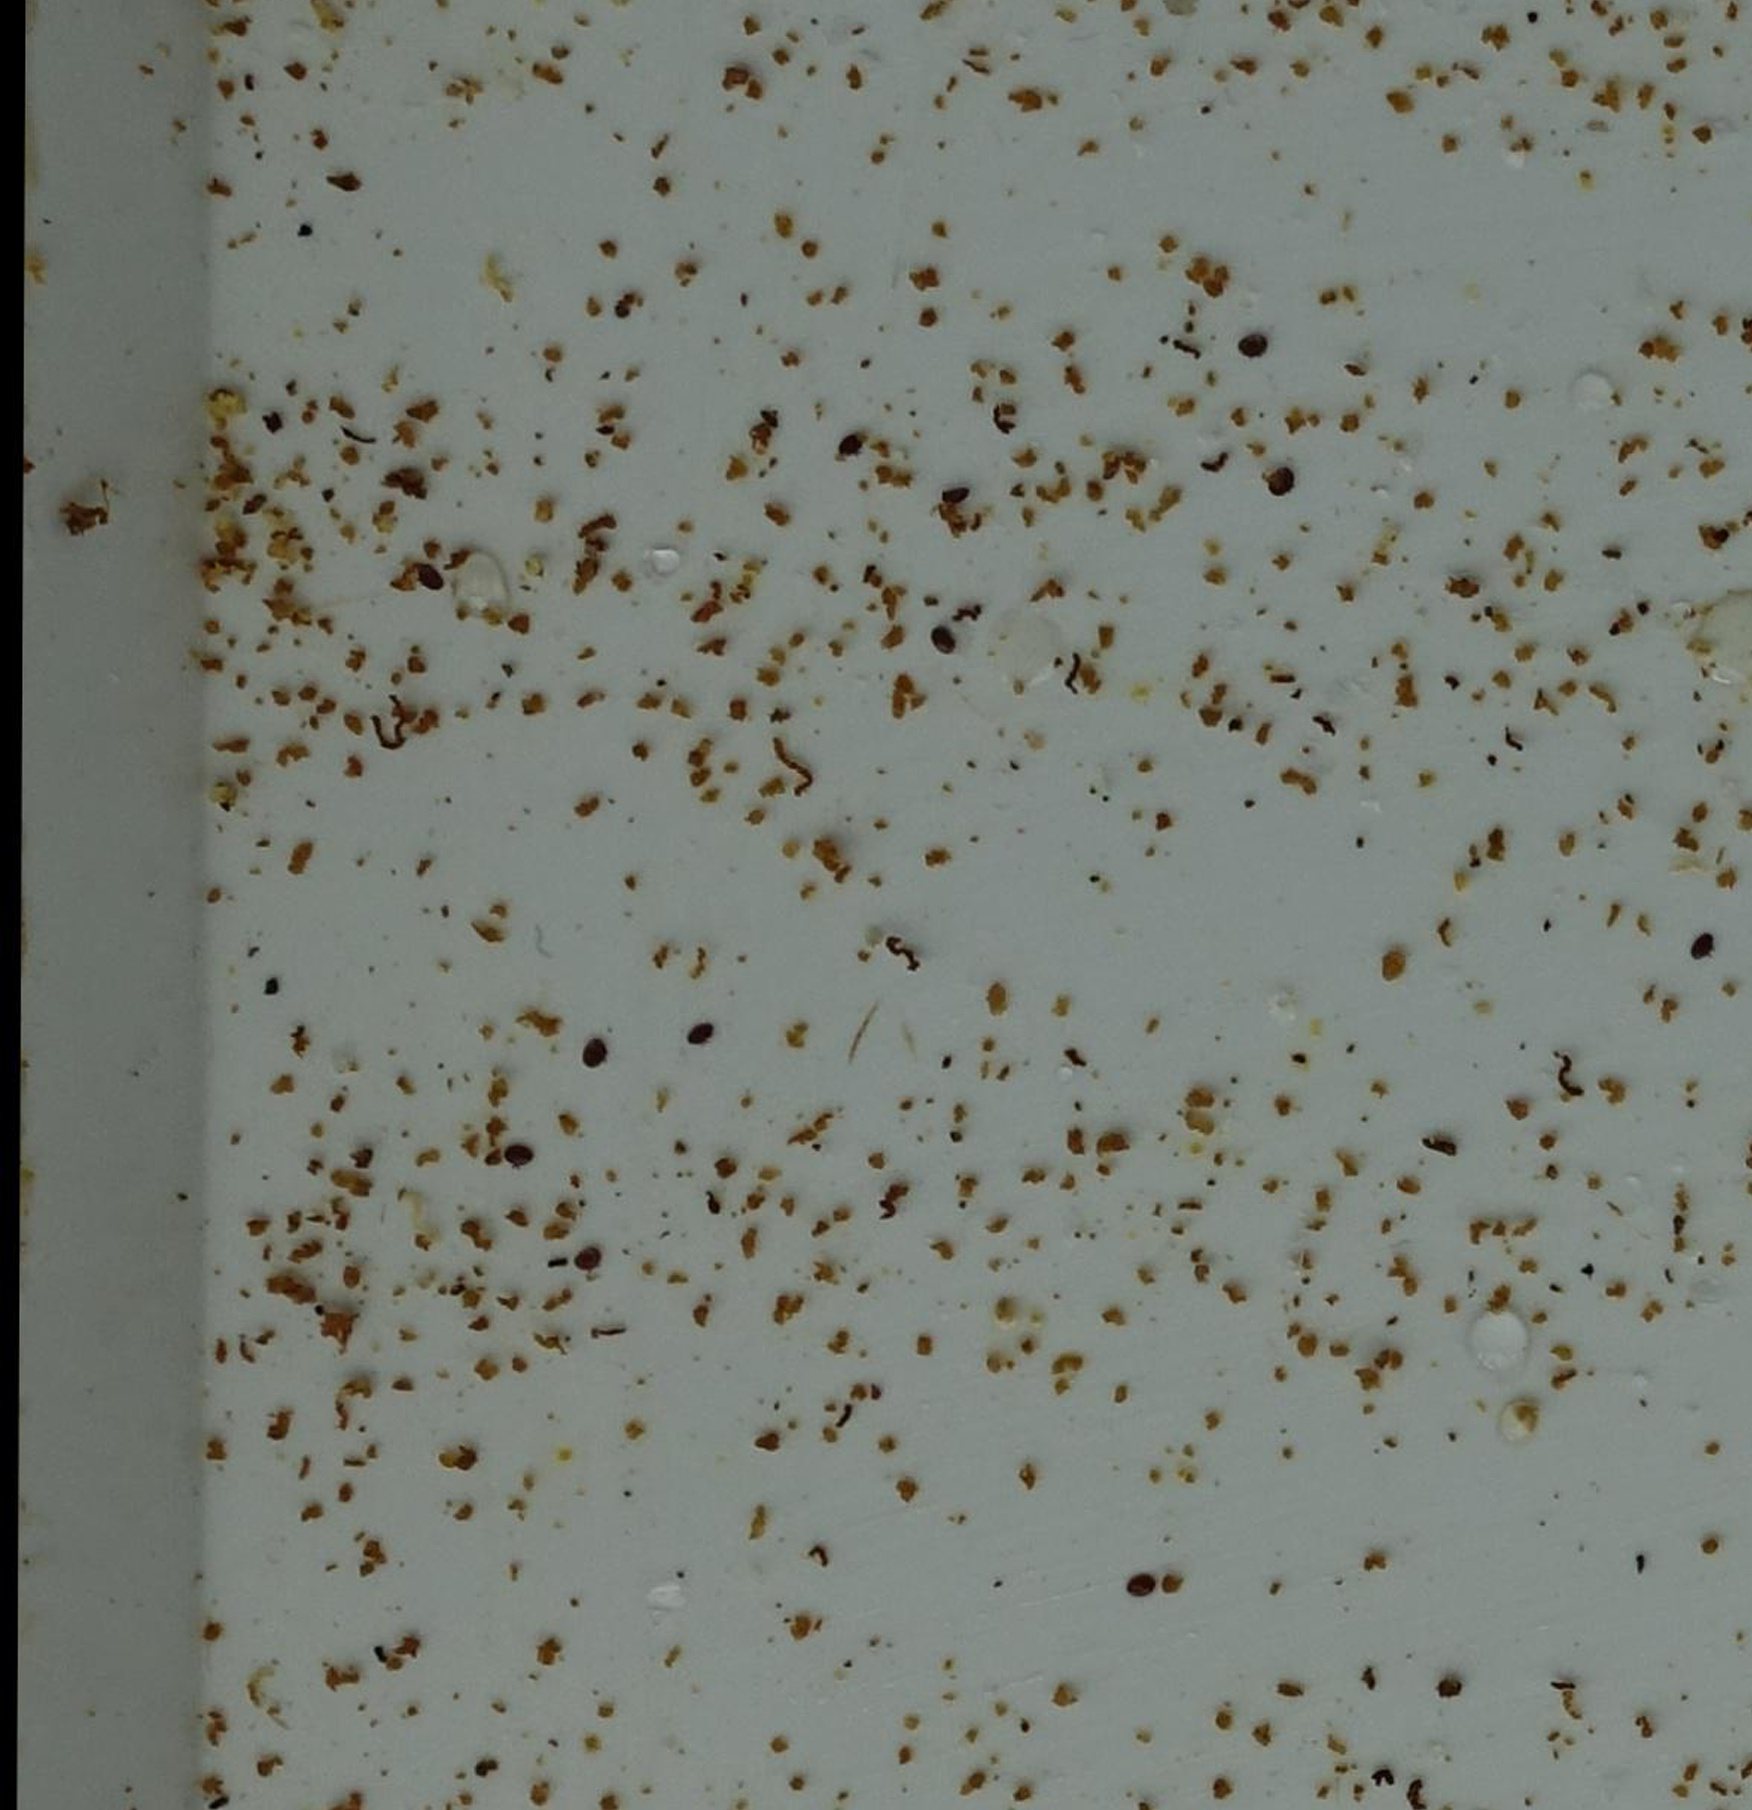Varroa: (571, 1243, 603, 1275), (685, 1018, 716, 1050), (506, 1139, 537, 1172), (414, 562, 444, 595), (1687, 934, 1718, 965), (582, 1041, 613, 1071), (1123, 1577, 1154, 1608), (1269, 457, 1296, 491), (837, 433, 866, 464), (1241, 333, 1270, 364), (931, 630, 957, 659)
